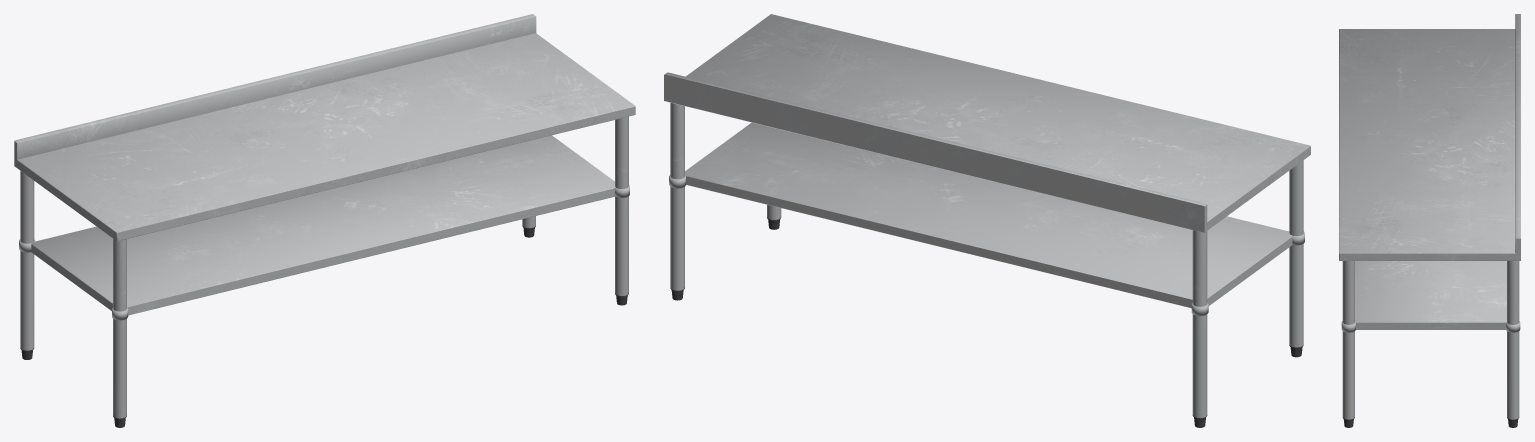
File: SM_Foodservice_Table.fbx
3 views of the same model, side by side, from view 1: azimuth 30°, elevation 25°; view 2: azimuth 150°, elevation 25°; view 3: azimuth 270°, elevation 25° (orthographic). The views are drawn at different scales.
Visible parts, largest first — view 1: SM_Foodservice_Table; view 2: SM_Foodservice_Table; view 3: SM_Foodservice_Table.
Part boxes in pixels (x1=…): SM_Foodservice_Table: x1=14, y1=14, x2=635, y2=427; SM_Foodservice_Table: x1=664, y1=14, x2=1310, y2=427; SM_Foodservice_Table: x1=1339, y1=14, x2=1520, y2=427.
Size of the model in its own units: 259 by 88.52 by 103.
Materials: 1 (1 with a texture image).
